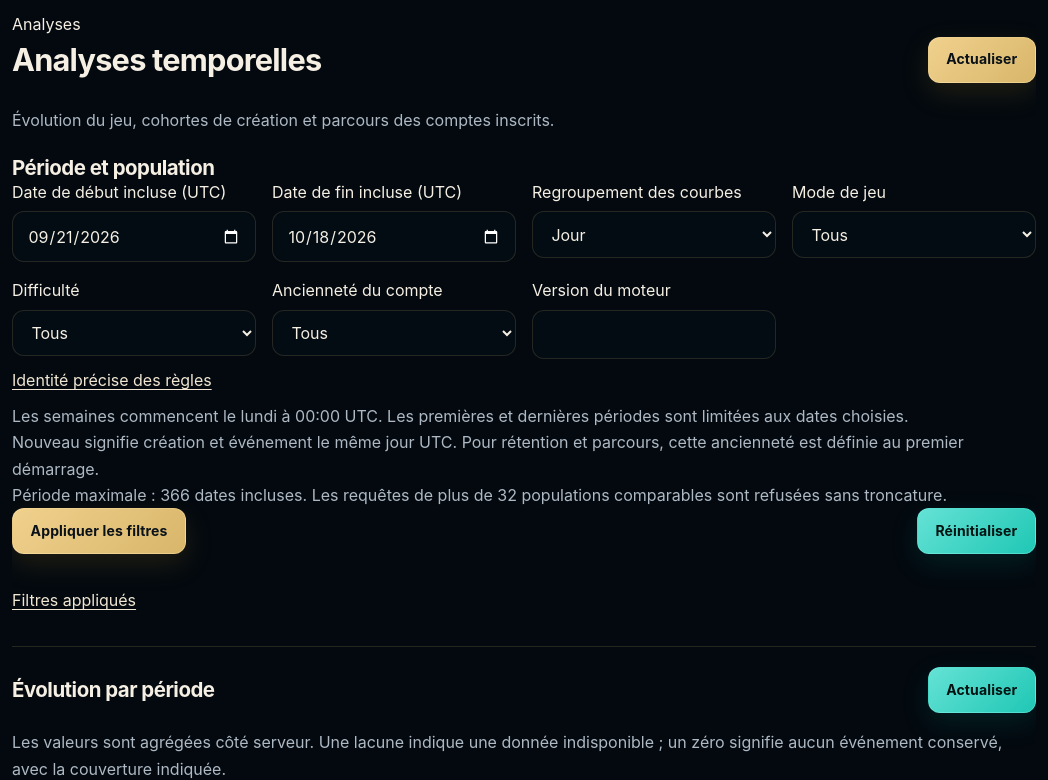
Scenario: analytics presentation and honest uncertainty › renders a global permission error with every action disabled and no stale chart after revocation
Click the button "Actualiser" in the row of "Évolution par période" at (982, 690), box left=928, top=667, right=1036, bottom=713
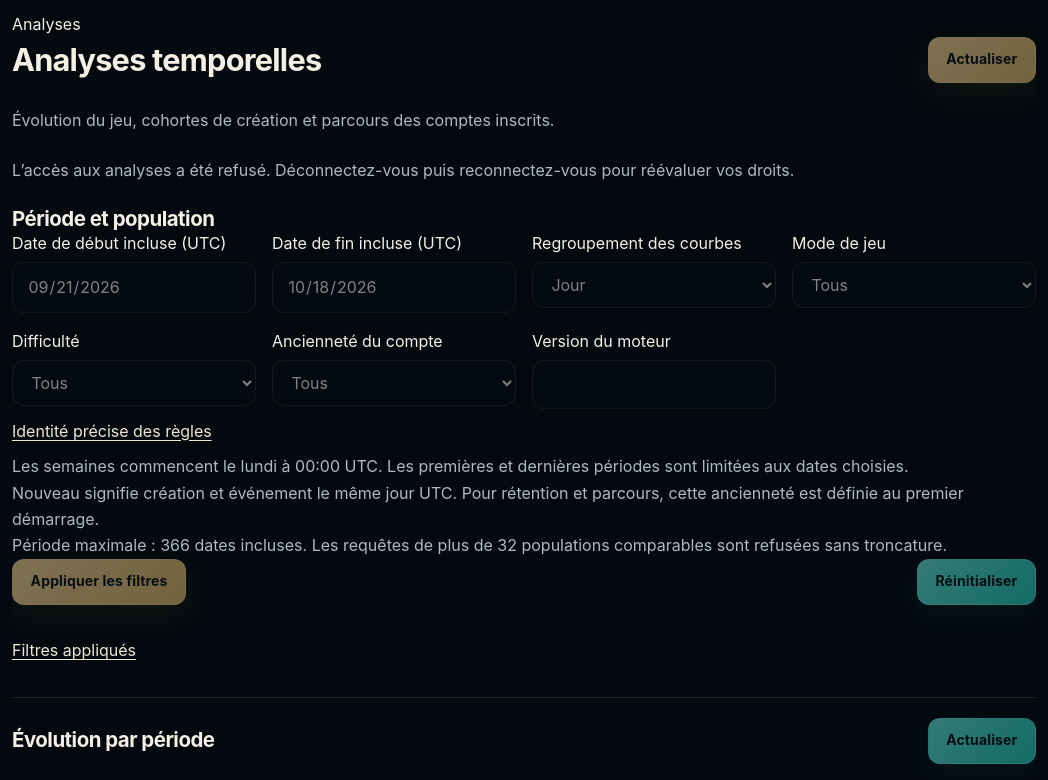
Now the text "L’accès aux analyses a été refusé. Déconnectez-vous puis reconnectez-vous pour réévaluer vos droits." is shown, box left=12, top=160, right=794, bottom=180
Now the button "Actualiser" in the row of "Analyses temporelles" is disabled, box left=928, top=37, right=1036, bottom=83
Now the button "Appliquer les filtres" is disabled, box left=12, top=559, right=186, bottom=605
